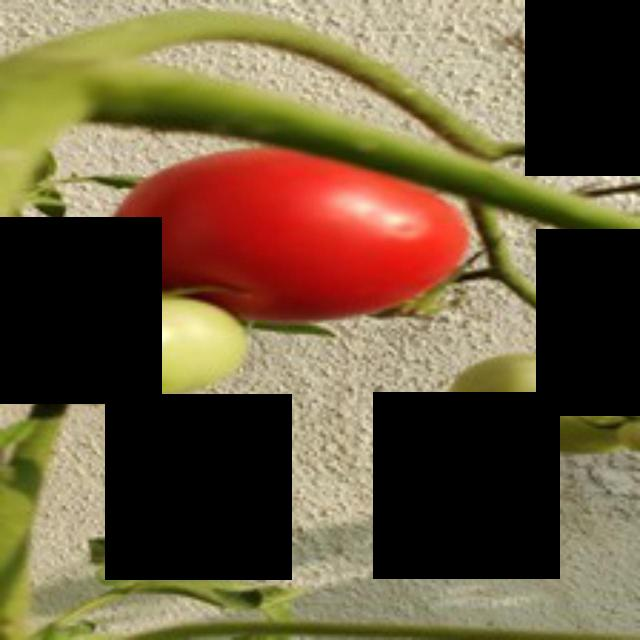tomato: (90, 130, 500, 332)
